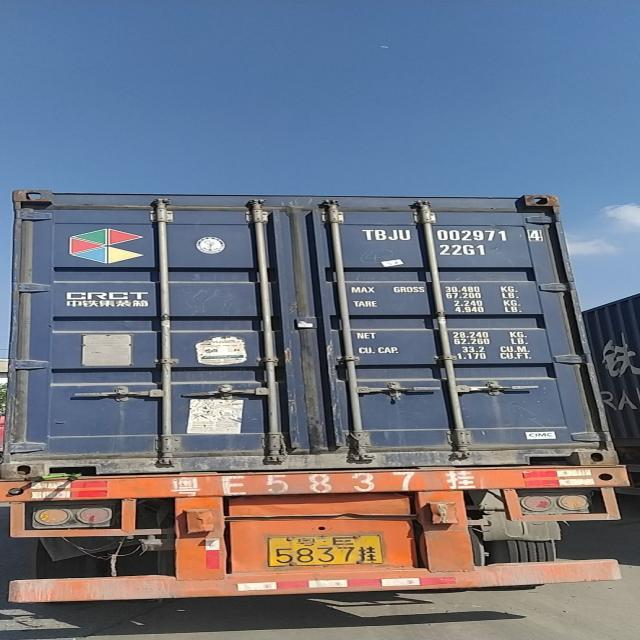ISO: (446, 242, 486, 258)
container_number: (370, 226, 532, 244)
